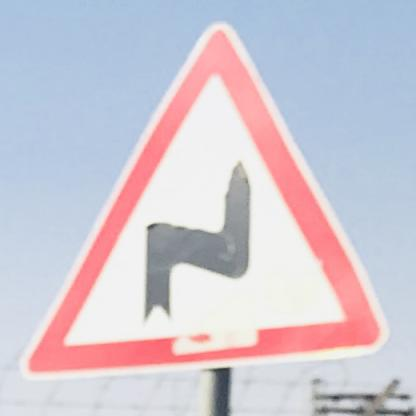Zigzag Road Ahead: (23, 19, 395, 378)
